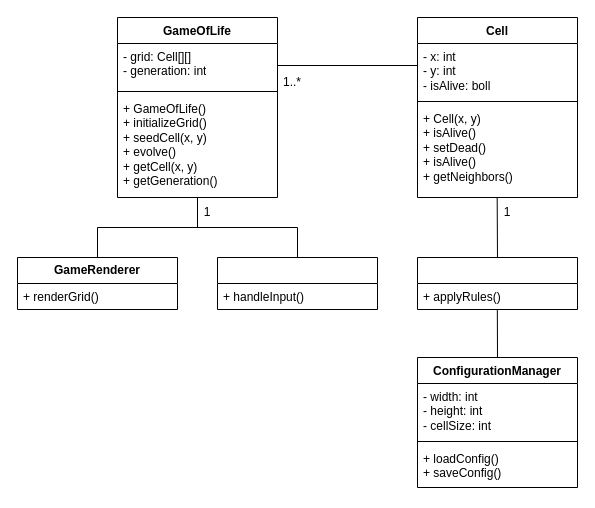
The diagram is 595 pixels wide and 508 high, and some of its shapes have lost their labels. The shapes that lost their labels are listed below. From the top down, each one's box as (x1, y1, x2, y2) in pixels, then its label:
(216, 256, 378, 310): InputHandler
(416, 256, 578, 310): GameRules
